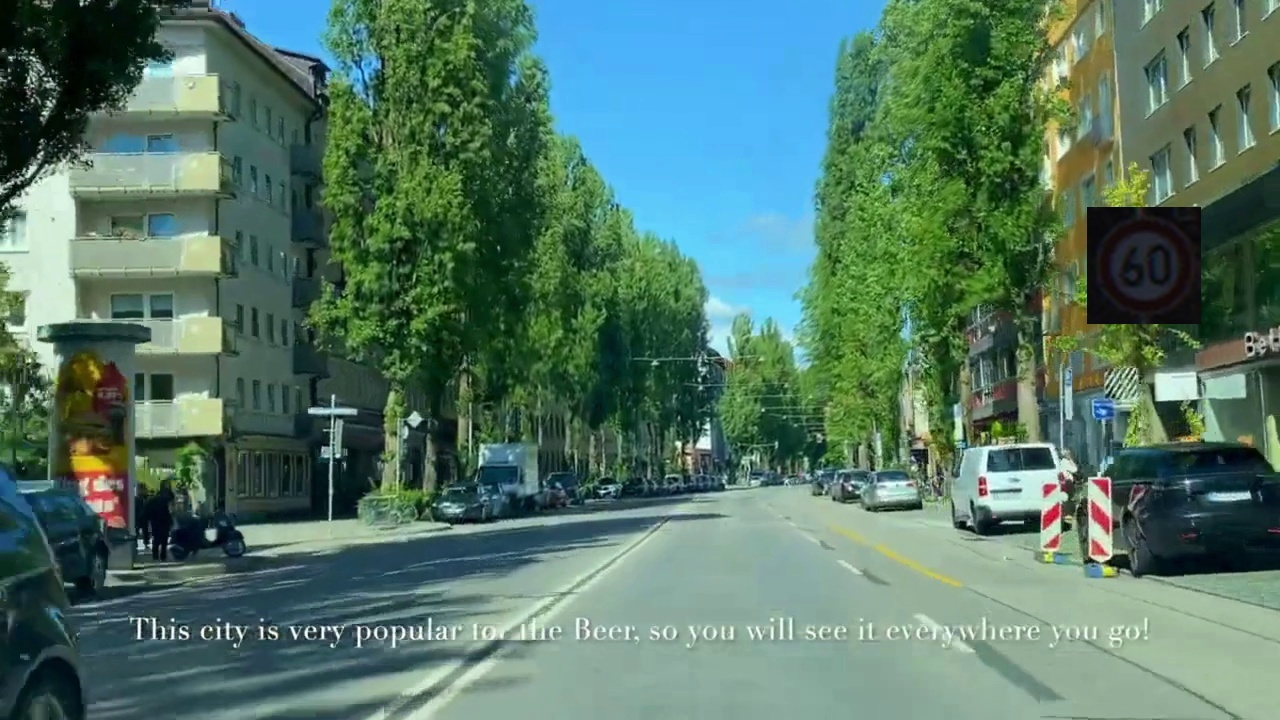Speed 60: (1087, 207, 1201, 324)
